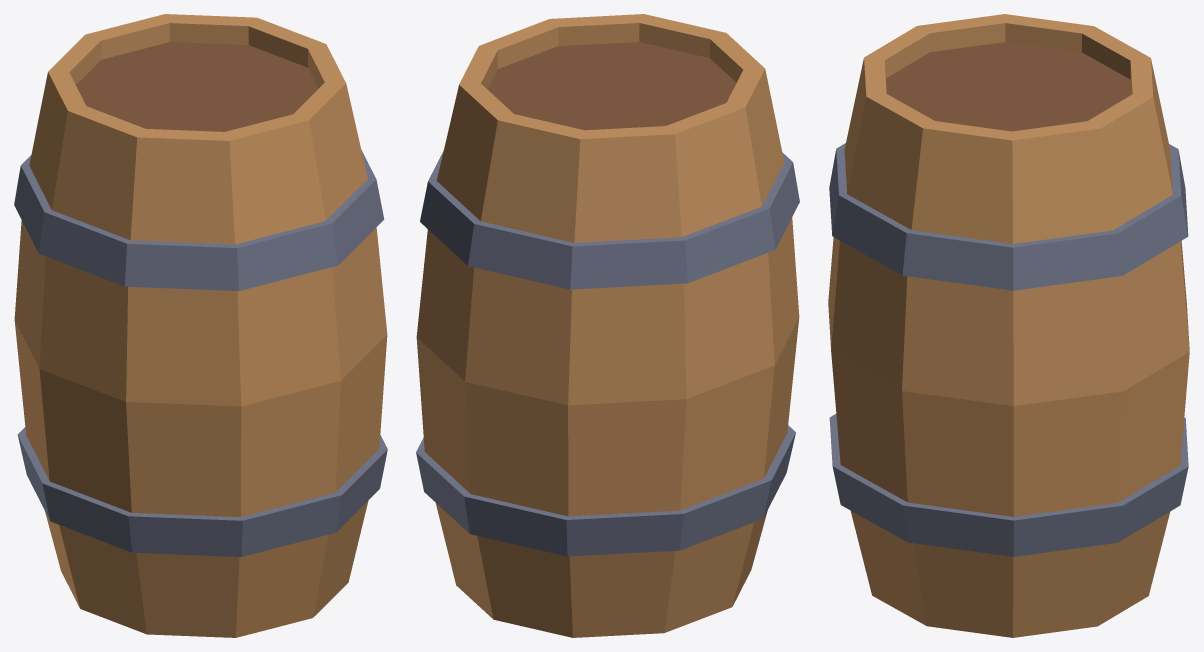
File: barrel.fbx
3 renders of one model, left to right at view 1: azimuth 30°, elevation 25°; view 2: azimuth 150°, elevation 25°; view 3: azimuth 270°, elevation 25°, orthographic.
Parts seen in each view (by area): view 1: barrel; view 2: barrel; view 3: barrel.
Part boxes in pixels (<box>): barrel: <box>14,14,387,637</box>; barrel: <box>416,14,799,637</box>; barrel: <box>828,14,1189,637</box>.
Size of the model in its own units: 0.7039 by 1.02 by 0.677.
